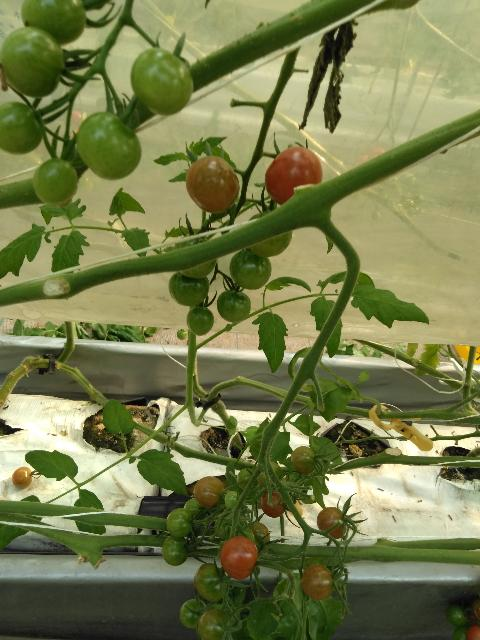l_fully_ripened: (264, 147, 323, 206), (220, 536, 258, 579), (260, 488, 288, 518)
l_green: (0, 27, 64, 98), (77, 111, 141, 181), (130, 48, 194, 117), (20, 0, 87, 45), (0, 101, 45, 155), (245, 209, 293, 257), (33, 158, 79, 205), (173, 235, 217, 279), (229, 247, 272, 291), (169, 271, 209, 307), (216, 290, 252, 323), (196, 566, 229, 602), (198, 609, 232, 640), (186, 306, 215, 336), (166, 507, 195, 537), (162, 535, 189, 566), (180, 599, 207, 628), (290, 446, 317, 474), (255, 461, 282, 487), (184, 497, 207, 521), (236, 468, 258, 491), (225, 491, 240, 509)
l_half_ripened: (185, 155, 240, 214), (301, 565, 335, 600), (316, 507, 346, 540), (193, 476, 223, 508), (248, 522, 271, 548), (12, 467, 32, 488)
